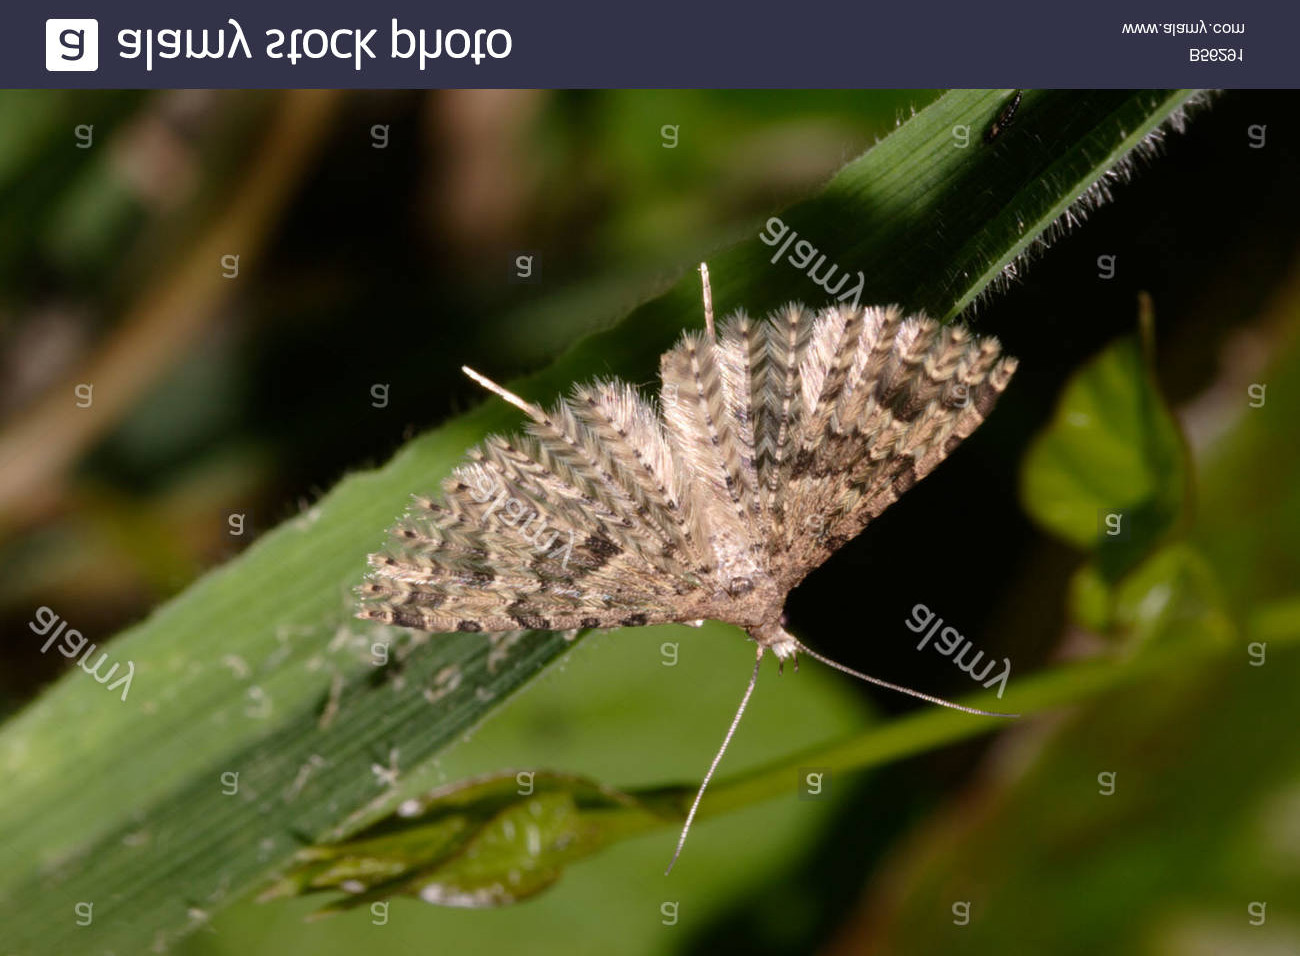Alucitidae: (336, 248, 1038, 861)
moth: (338, 250, 1040, 863)
